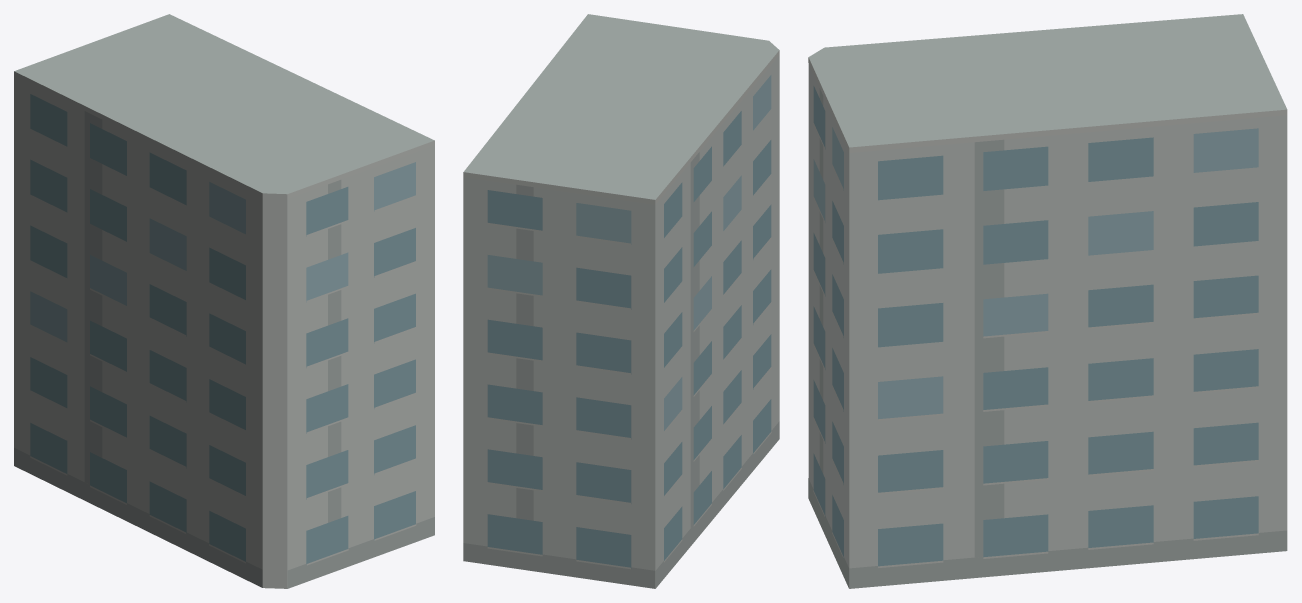
File: survey-upis-32826079.glb
The picture shows the model from 3 angles, left to right: view 1: azimuth 30°, elevation 25°; view 2: azimuth 150°, elevation 25°; view 3: azimuth 270°, elevation 25°; orthographic projection. The views are drawn at different scales.
Parts seen in each view (by area): view 1: survey-upis-32826079.tmp; view 2: survey-upis-32826079.tmp; view 3: survey-upis-32826079.tmp.
Part boxes in pixels (bbox=[...]): survey-upis-32826079.tmp: bbox=[14, 14, 434, 588]; survey-upis-32826079.tmp: bbox=[463, 14, 779, 588]; survey-upis-32826079.tmp: bbox=[808, 14, 1287, 588].
Bounding box in the file's own units: 12.46 × 19.2 × 18.89.
